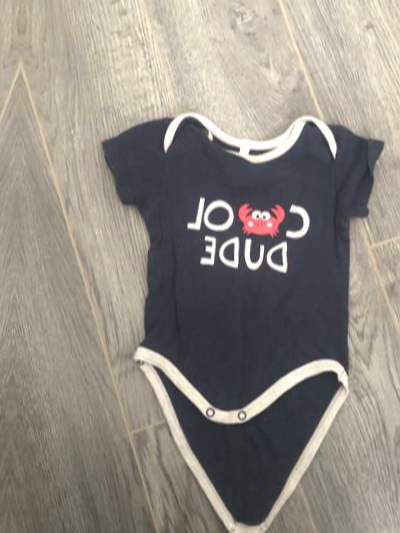Body: (96, 89, 395, 533)
